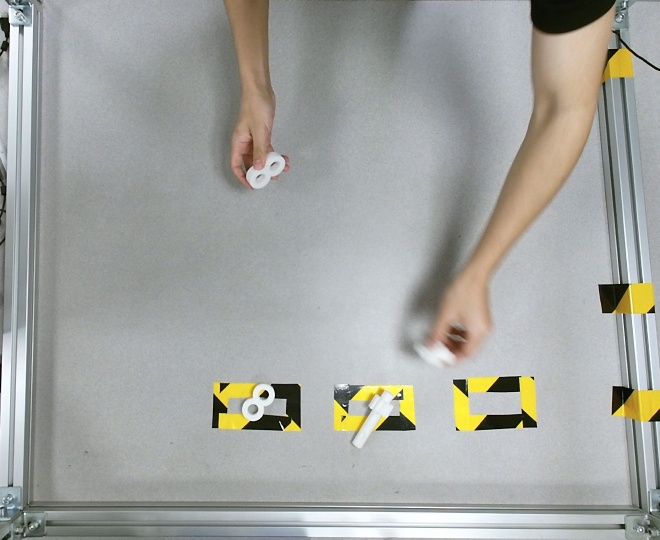stage_1: (246, 152, 284, 188)
